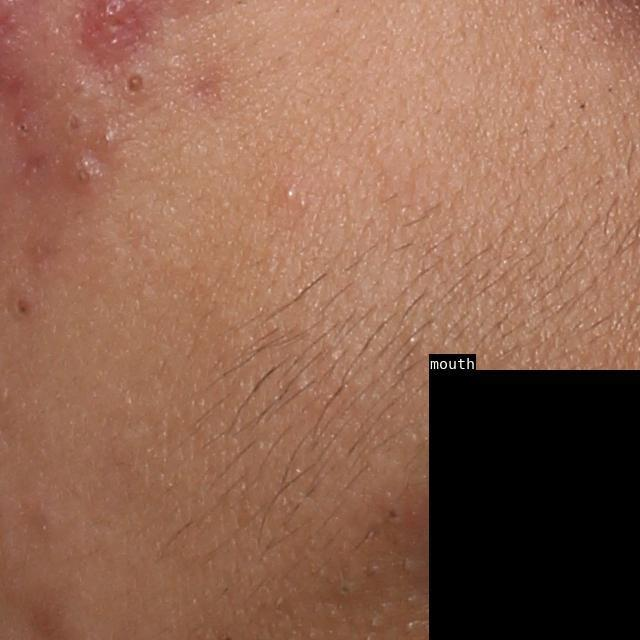comedo: (118, 68, 149, 96), (11, 291, 37, 319), (333, 578, 357, 604), (382, 500, 404, 524), (284, 183, 305, 202)
papule: (67, 152, 106, 189)
